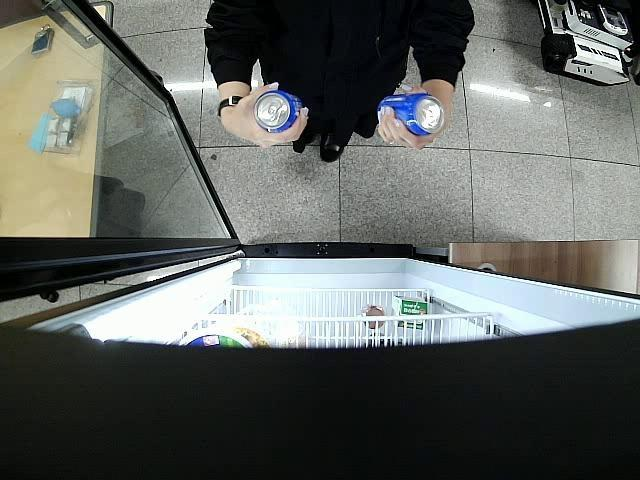13_pocariSweat: (378, 93, 444, 134), (254, 92, 300, 132)
